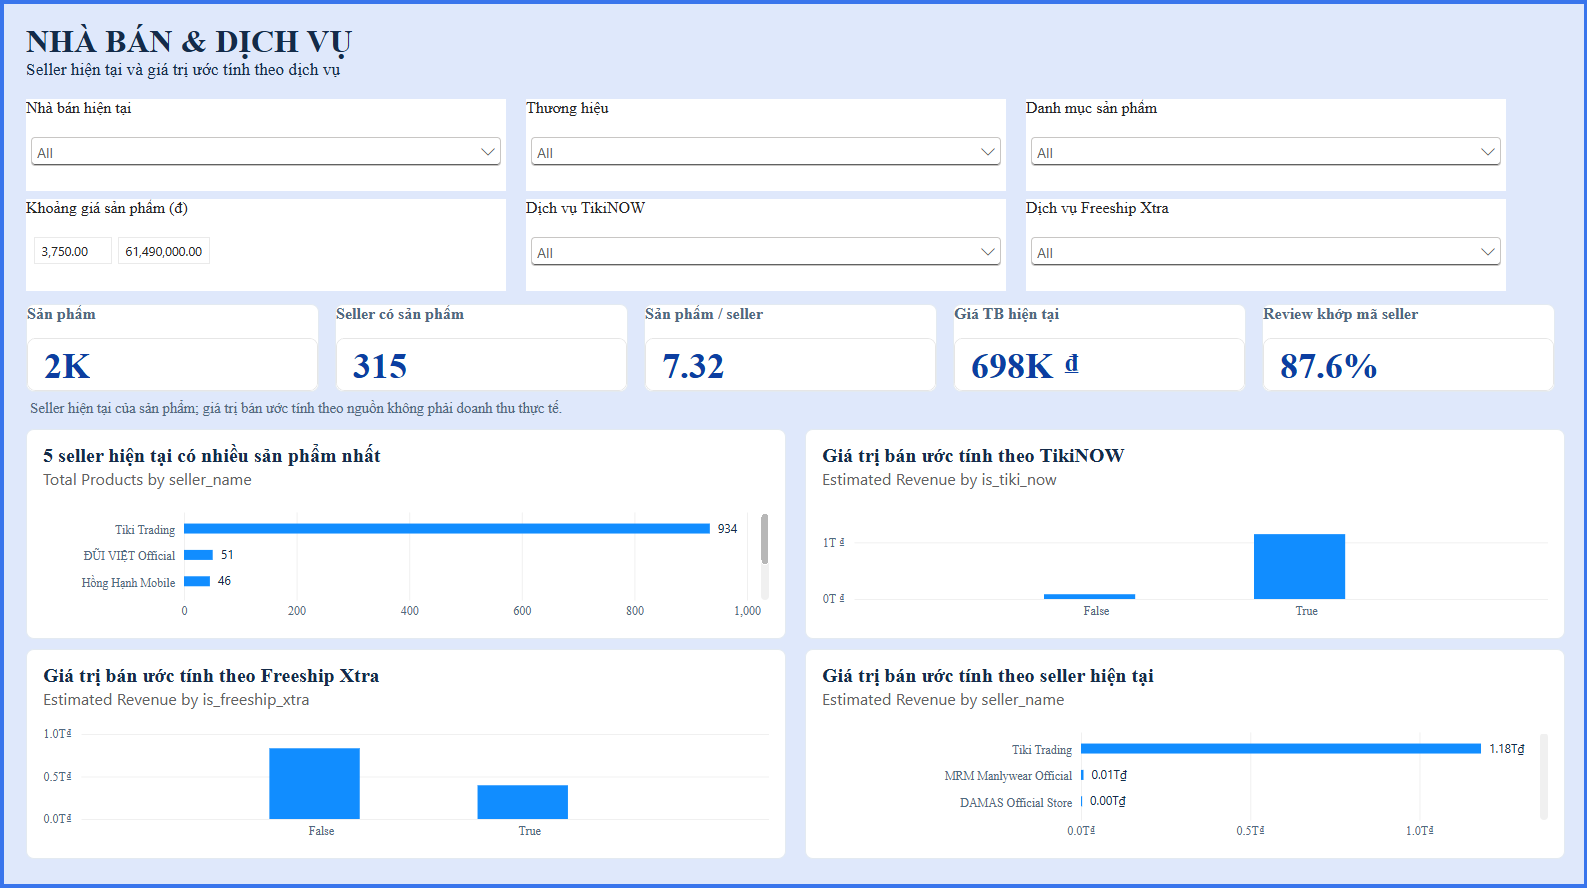

What the dashboard file says about the page in this screenshot:
{"tool":"powerbi","page":{"name":"Nhà bán & dịch vụ","canvas":[1600,900],"ordinal":4},"visuals":[{"type":"shape","box":[2,2,1596,896],"z":0},{"type":"cardVisual","title":"Sản phẩm","fields":{"Data":["KPI_Measures.Total Products"]},"box":[32,310,292.6,88],"z":1000},{"type":"cardVisual","title":"Seller có sản phẩm","fields":{"Data":["KPI_Measures.Sellers with Products"]},"box":[341,310,292.6,88],"z":2000},{"type":"cardVisual","title":"Sản phẩm / seller","fields":{"Data":["KPI_Measures.Average Products per Seller"]},"box":[650,310,292.6,88],"z":3000},{"type":"cardVisual","title":"Giá TB hiện tại","fields":{"Data":["KPI_Measures.Average Product Price"]},"box":[959.1,310,292.6,88],"z":4000},{"type":"cardVisual","title":"Review khớp mã seller","fields":{"Data":["KPI_Measures.Seller Linkage Rate"]},"box":[1268.1,310,292.6,88],"z":5000},{"type":"clusteredBarChart","title":"5 seller hiện tại có nhiều sản phẩm nhất","fields":{"Category":["Dim_Seller.seller_name"],"Y":["KPI_Measures.Total Products"]},"box":[32,435,760.2,210],"z":10000},{"type":"columnChart","title":"Giá trị bán ước tính theo TikiNOW","fields":{"Category":["Dim_Product.is_tiki_now"],"Y":["KPI_Measures.Estimated Revenue"]},"box":[811,435,760.2,210],"z":11000},{"type":"columnChart","title":"Giá trị bán ước tính theo Freeship Xtra","fields":{"Category":["Dim_Product.is_freeship_xtra"],"Y":["KPI_Measures.Estimated Revenue"]},"box":[32,655,760.2,210],"z":12000},{"type":"clusteredBarChart","title":"Giá trị bán ước tính theo seller hiện tại","fields":{"Category":["Dim_Seller.seller_name"],"Y":["KPI_Measures.Estimated Revenue"]},"box":[811,655,760.2,210],"z":13000},{"type":"textbox","box":[32,29,1509.9,84],"z":99000},{"type":"textbox","box":[35.5,404,1515.8,26],"z":100000},{"type":"slicer","title":"Nhà bán hiện tại","fields":{"Values":["Dim_Seller.seller_name"]},"box":[32,105,480,92],"z":200000},{"type":"slicer","title":"Thương hiệu","fields":{"Values":["Dim_Product.brand_name"]},"box":[532,105,480,92],"z":200001},{"type":"slicer","title":"Danh mục sản phẩm","fields":{"Values":["Dim_Category.category_name"]},"box":[1032,105,480,92],"z":200002},{"type":"slicer","title":"Khoảng giá sản phẩm (đ)","fields":{"Values":["Dim_Product.price"]},"box":[32,205,480,92],"z":200100},{"type":"slicer","title":"Dịch vụ TikiNOW","fields":{"Values":["Dim_Product.tiki_filter"]},"box":[532,205,480,92],"z":200101},{"type":"slicer","title":"Dịch vụ Freeship Xtra","fields":{"Values":["Dim_Product.freeship_filter"]},"box":[1032,205,480,92],"z":200102}]}

Visuals, with their boxes in screenshot pixels (x1, y1, x2, y2), scaled from the page's 1600x900 canvas onto the 1587x888 screenshot:
shape: left=2, top=2, right=1585, bottom=886
"Sản phẩm" cardVisual: left=32, top=306, right=322, bottom=393
"Seller có sản phẩm" cardVisual: left=338, top=306, right=628, bottom=393
"Sản phẩm / seller" cardVisual: left=645, top=306, right=935, bottom=393
"Giá TB hiện tại" cardVisual: left=951, top=306, right=1242, bottom=393
"Review khớp mã seller" cardVisual: left=1258, top=306, right=1548, bottom=393
"5 seller hiện tại có nhiều sản phẩm nhất" clusteredBarChart: left=32, top=429, right=786, bottom=636
"Giá trị bán ước tính theo TikiNOW" columnChart: left=804, top=429, right=1558, bottom=636
"Giá trị bán ước tính theo Freeship Xtra" columnChart: left=32, top=646, right=786, bottom=853
"Giá trị bán ước tính theo seller hiện tại" clusteredBarChart: left=804, top=646, right=1558, bottom=853
textbox: left=32, top=29, right=1529, bottom=111
textbox: left=35, top=399, right=1539, bottom=424
"Nhà bán hiện tại" slicer: left=32, top=104, right=508, bottom=194
"Thương hiệu" slicer: left=528, top=104, right=1004, bottom=194
"Danh mục sản phẩm" slicer: left=1024, top=104, right=1500, bottom=194
"Khoảng giá sản phẩm (đ)" slicer: left=32, top=202, right=508, bottom=293
"Dịch vụ TikiNOW" slicer: left=528, top=202, right=1004, bottom=293
"Dịch vụ Freeship Xtra" slicer: left=1024, top=202, right=1500, bottom=293
